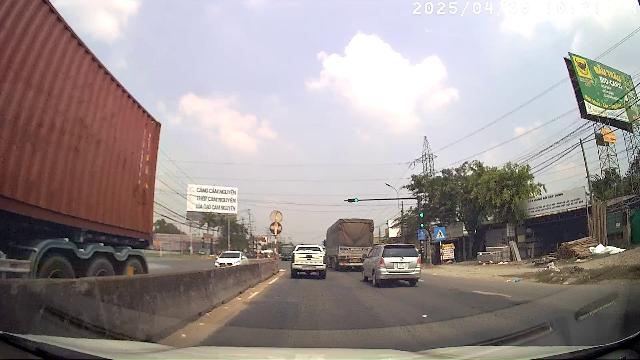423a-duong-nguoi-di-bo-sang-ngang-1: (434, 226, 446, 240)
